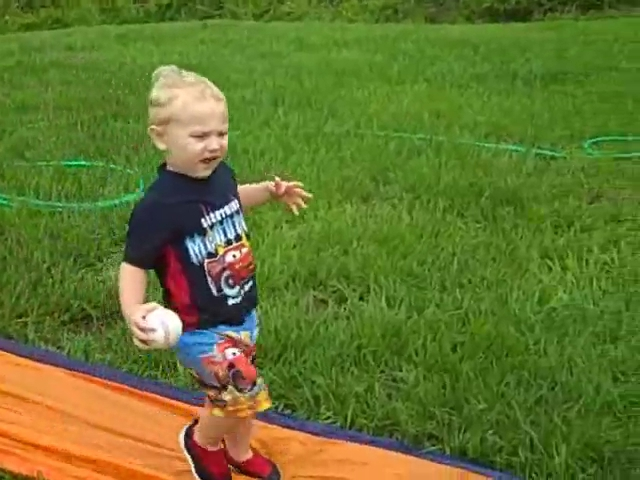person: (117, 65, 313, 480)
